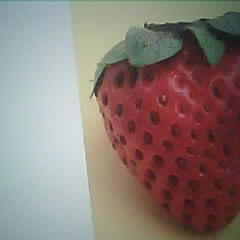straw-ripe: (96, 27, 240, 233)
